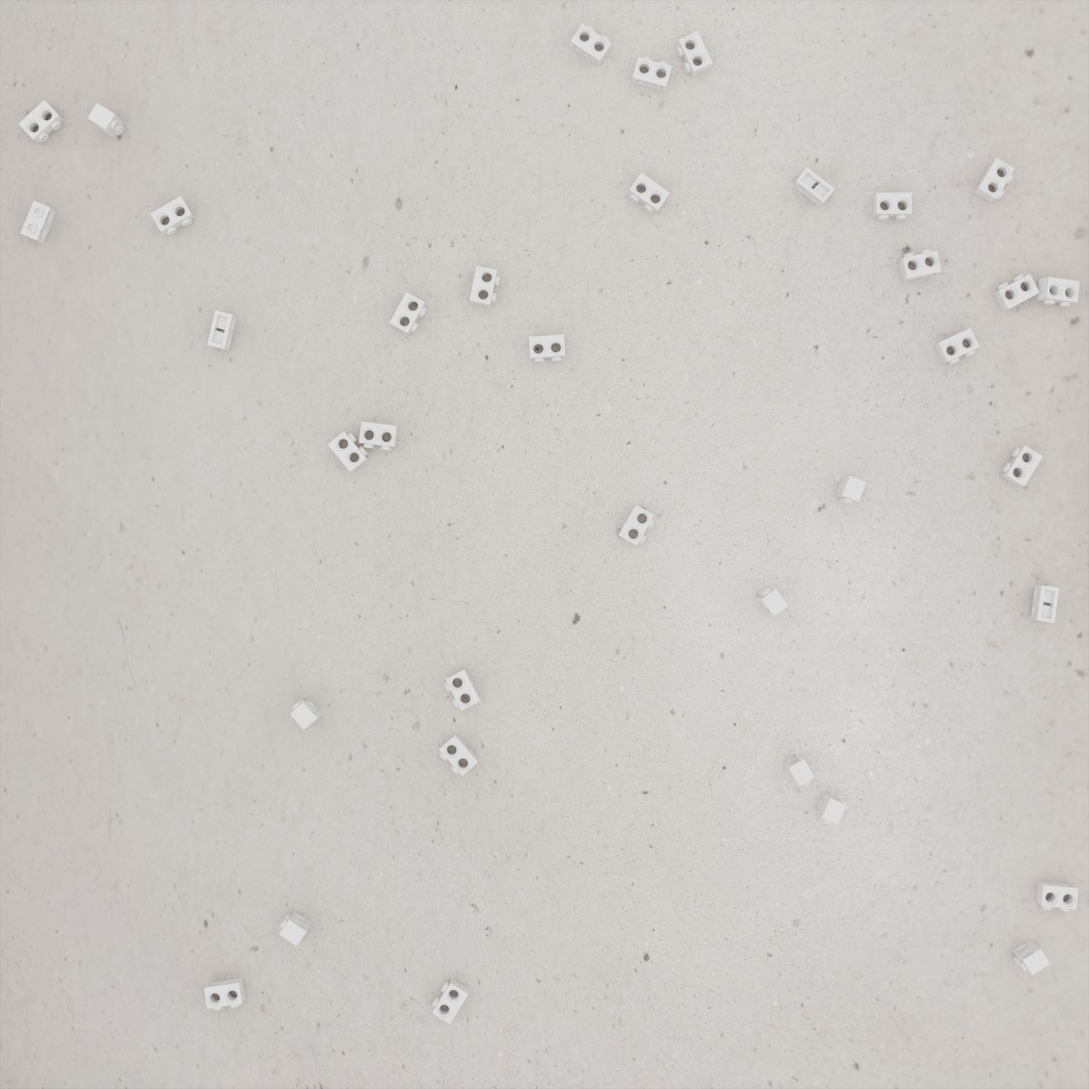lego: (18, 100, 64, 144), (974, 158, 1015, 203), (1001, 445, 1043, 487), (628, 172, 670, 214), (150, 196, 195, 235), (431, 978, 469, 1024), (994, 274, 1040, 312), (570, 24, 611, 66), (439, 733, 479, 776), (934, 328, 980, 365), (676, 31, 713, 77), (328, 431, 368, 473), (793, 167, 835, 207), (389, 292, 427, 335), (20, 201, 57, 244), (444, 668, 481, 711), (618, 505, 655, 546), (632, 56, 672, 92), (899, 249, 942, 282), (87, 103, 125, 139), (1036, 881, 1079, 912), (1012, 940, 1050, 975), (204, 978, 245, 1010), (1037, 277, 1080, 307), (469, 266, 500, 307), (207, 310, 237, 352), (279, 911, 312, 946), (359, 422, 398, 451), (1030, 585, 1059, 623), (873, 192, 912, 220), (783, 754, 815, 787), (529, 334, 565, 363), (816, 792, 847, 825), (290, 699, 322, 730), (835, 475, 867, 505), (757, 587, 789, 617)
